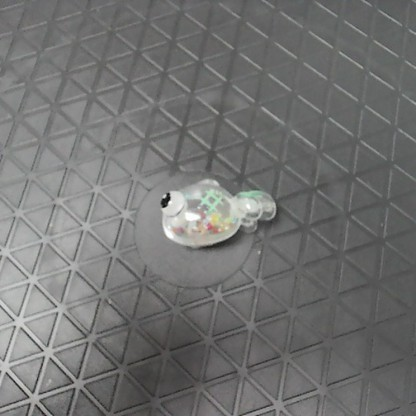whitefish: (159, 175, 276, 248)
